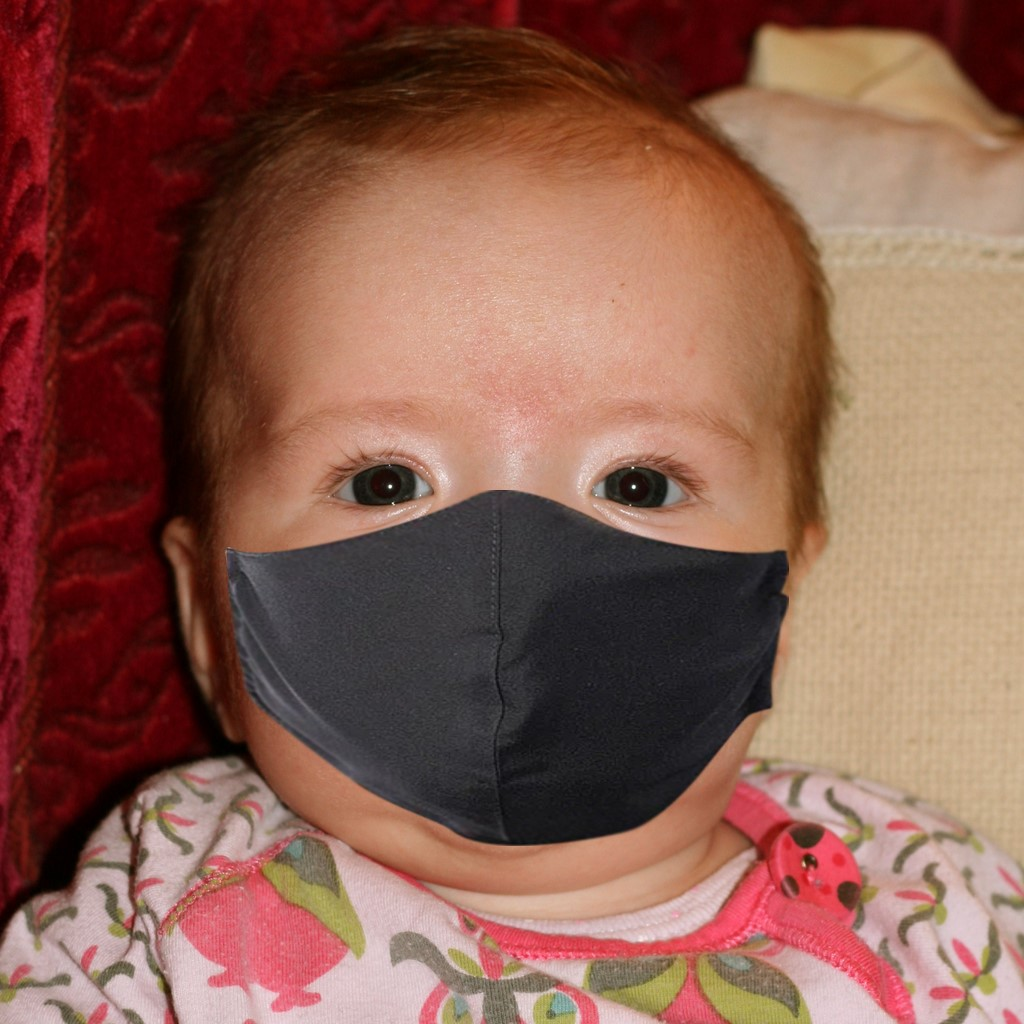con_mascara: (187, 67, 831, 884)
